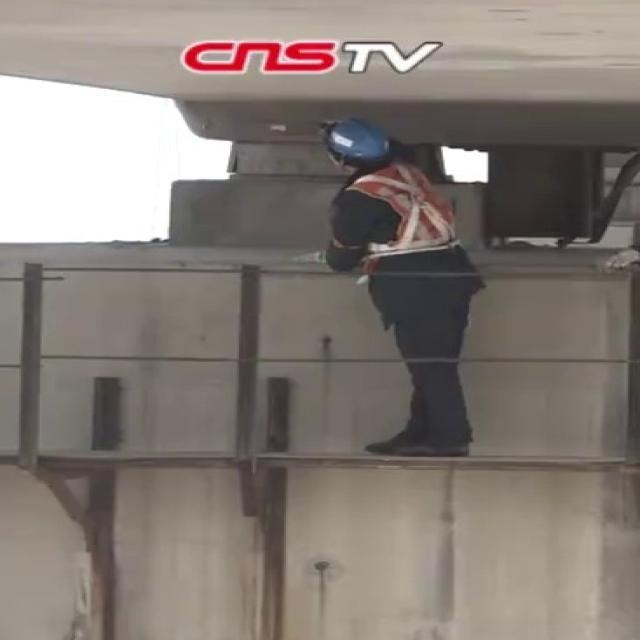Arnes_seguridad: (336, 158, 464, 262)
